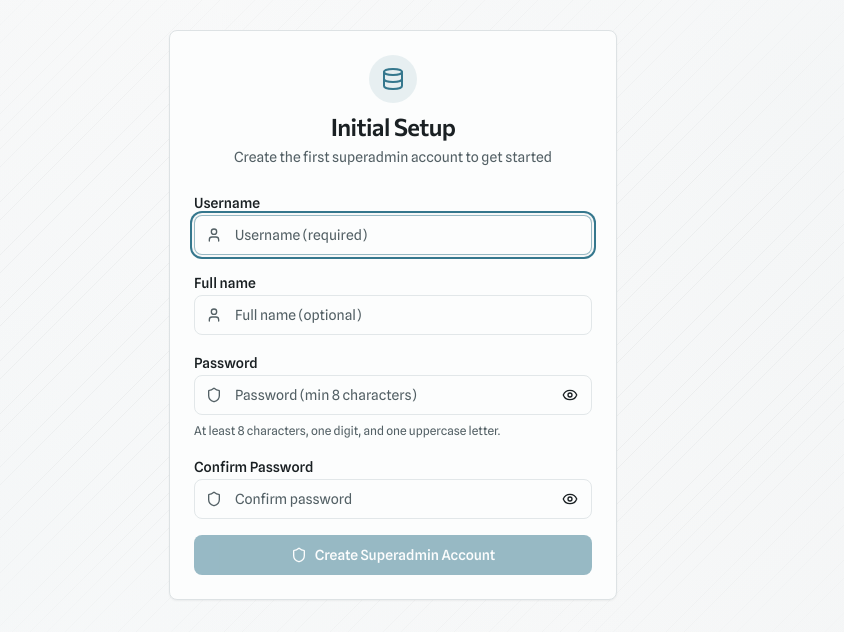
Test: SetupPage › validates username minimum length
// Fill username with too few characters
Type "ab" into the field with placeholder "Username (required)" at point(393, 235), box [194,215,592,255]
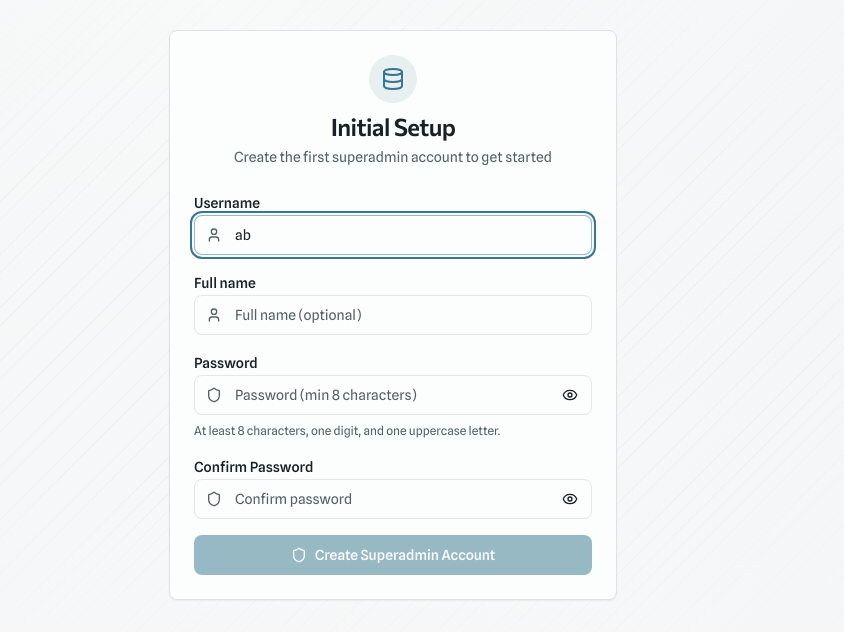
Type "password123" into the password field with placeholder "Password (min 8 characters)" at point(393, 395), box [194,375,592,415]
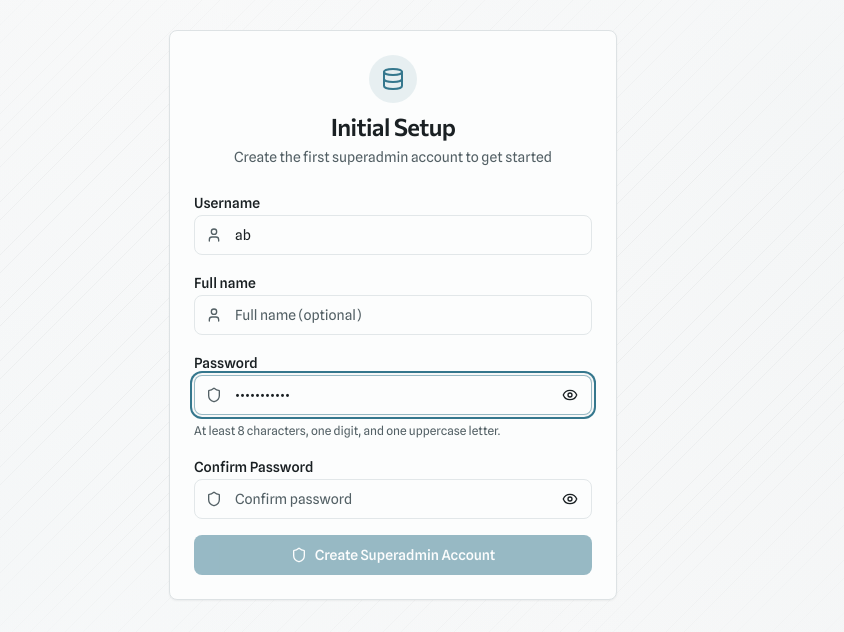
Type "password123" into the password field with placeholder "Confirm Password" at point(393, 499), box [194,479,592,519]
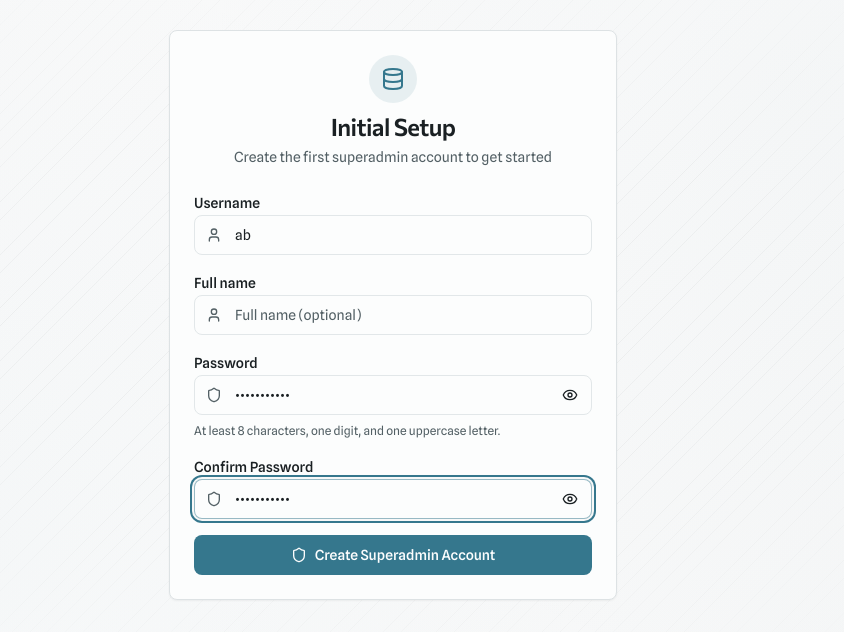
Click the button "Create Superadmin Account" at point(393, 555), box [194,535,592,575]
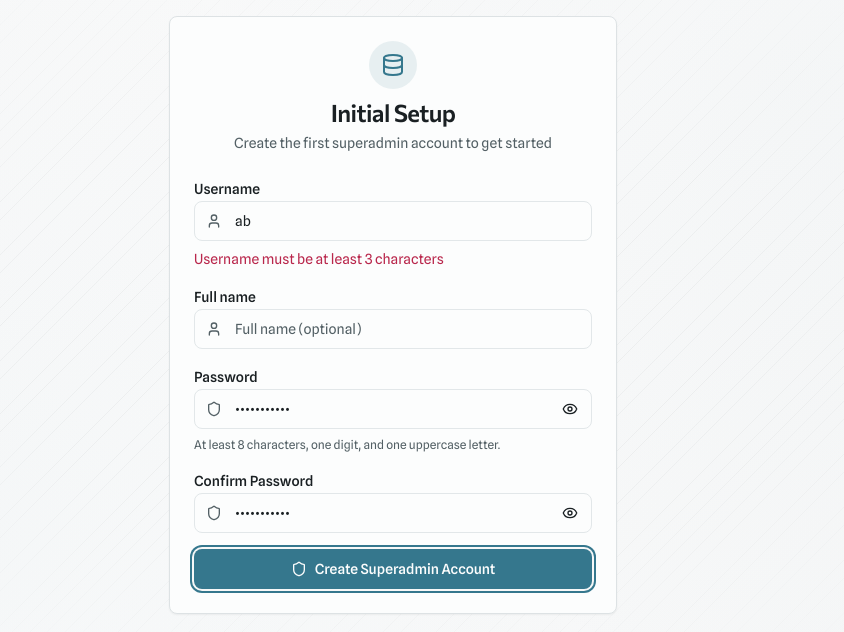
Check: the text "Username must be at least 3 characters" is shown, box [194,251,444,267]
